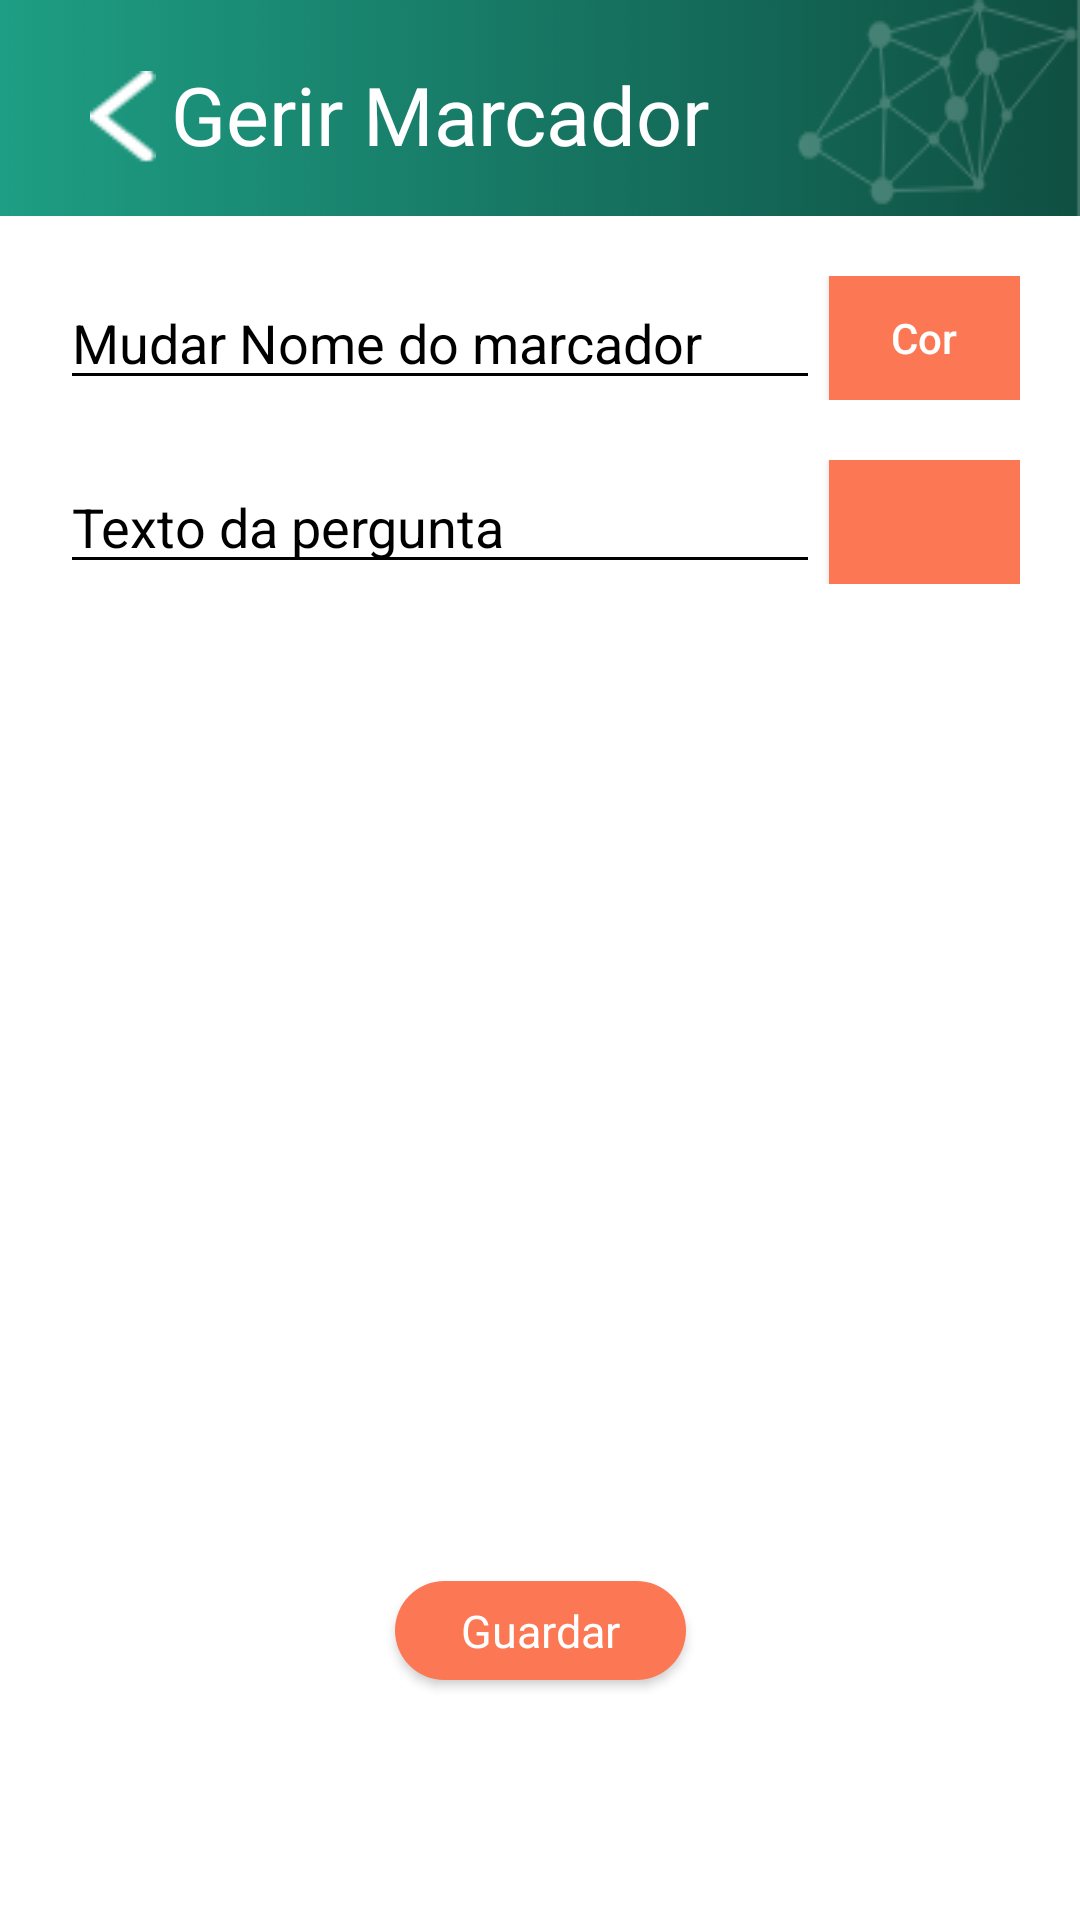

Named icons in this screenshot (1080px x 1920px) and their bounding boxes, (x1, y1, x2, y2):
back arrow: (90, 71, 156, 162)
